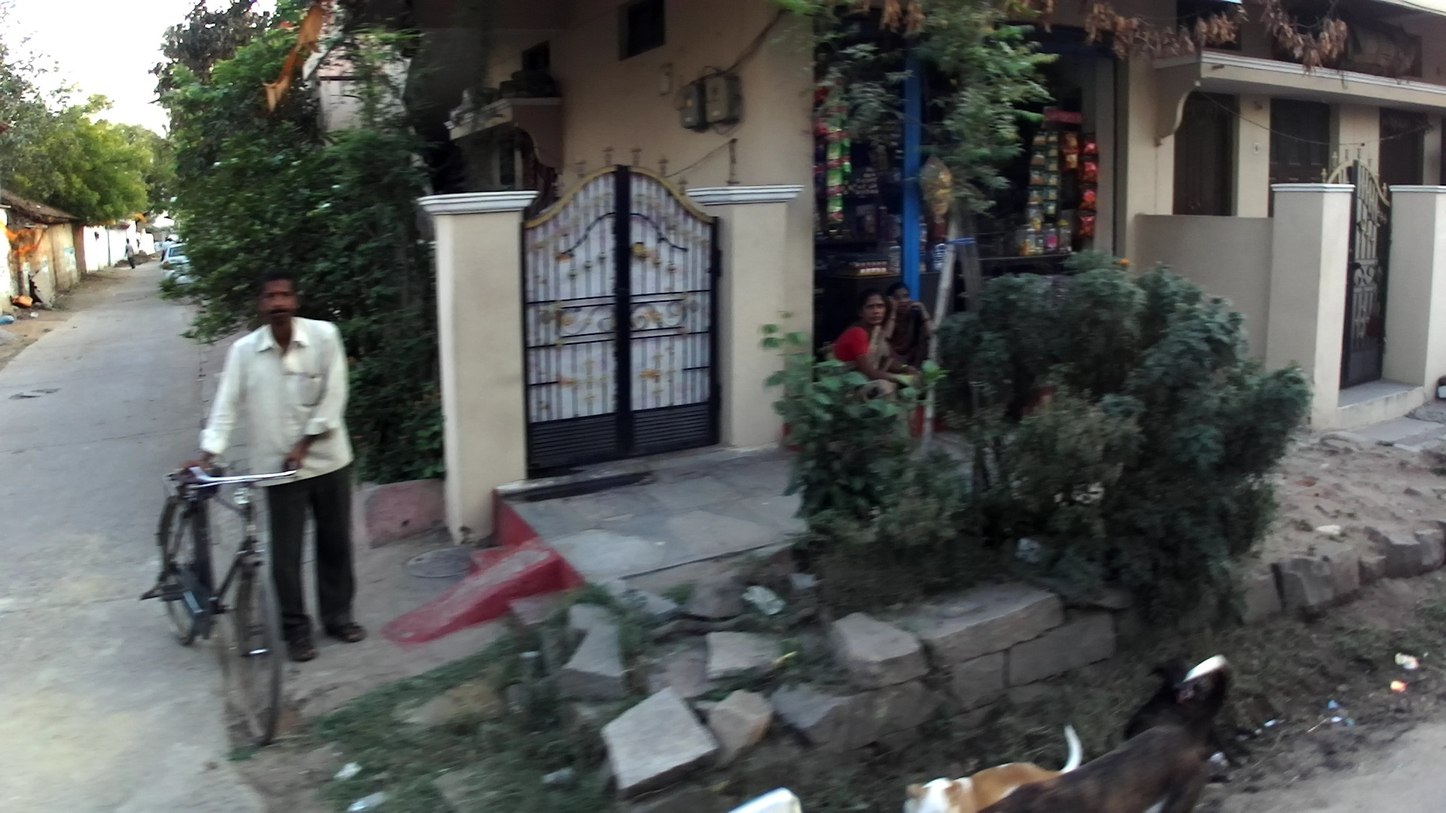animal: (977, 655, 1236, 813), (904, 723, 1084, 813)
bicycle: (139, 461, 298, 747)
car: (157, 241, 205, 291)
person: (821, 288, 937, 440), (882, 282, 933, 371), (123, 238, 137, 269), (161, 237, 168, 261), (166, 237, 175, 251)
rider: (183, 267, 368, 663)
